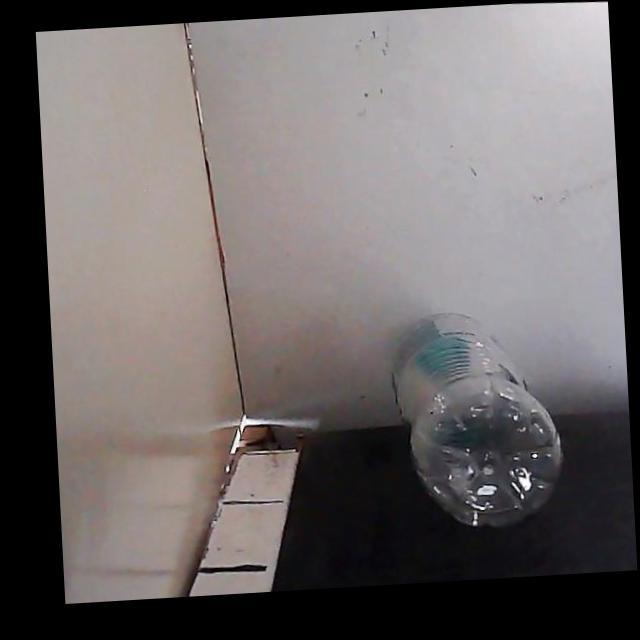plastico: (393, 313, 562, 526)
